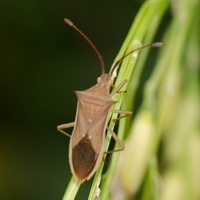insect: (57, 18, 163, 182)
